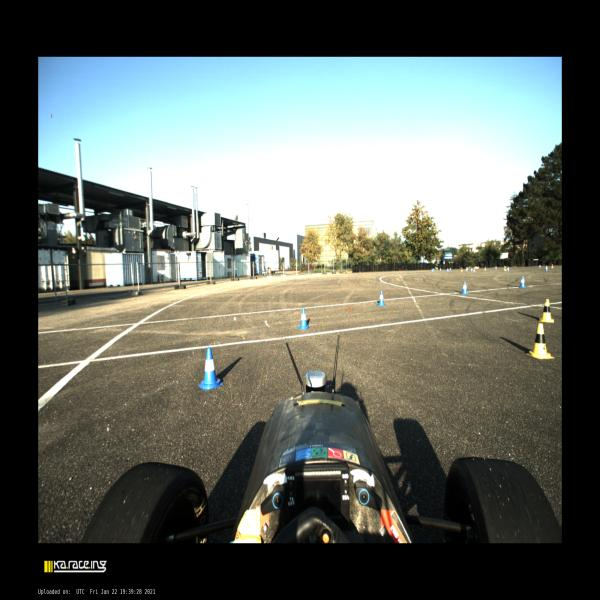blue_cone: (198, 347, 224, 390), (298, 307, 310, 330), (377, 290, 385, 306), (518, 275, 527, 288), (460, 280, 468, 294), (546, 265, 548, 271), (507, 267, 509, 271), (471, 268, 473, 272), (433, 268, 435, 271), (539, 265, 541, 268), (447, 268, 448, 272), (440, 268, 441, 272), (450, 268, 451, 270), (496, 266, 496, 270), (432, 268, 432, 272)
yellow_cone: (528, 324, 554, 361), (538, 298, 554, 323), (504, 267, 507, 271), (474, 267, 476, 272), (484, 266, 486, 270), (461, 268, 463, 272), (552, 264, 553, 268), (504, 265, 505, 269), (466, 267, 467, 271)
